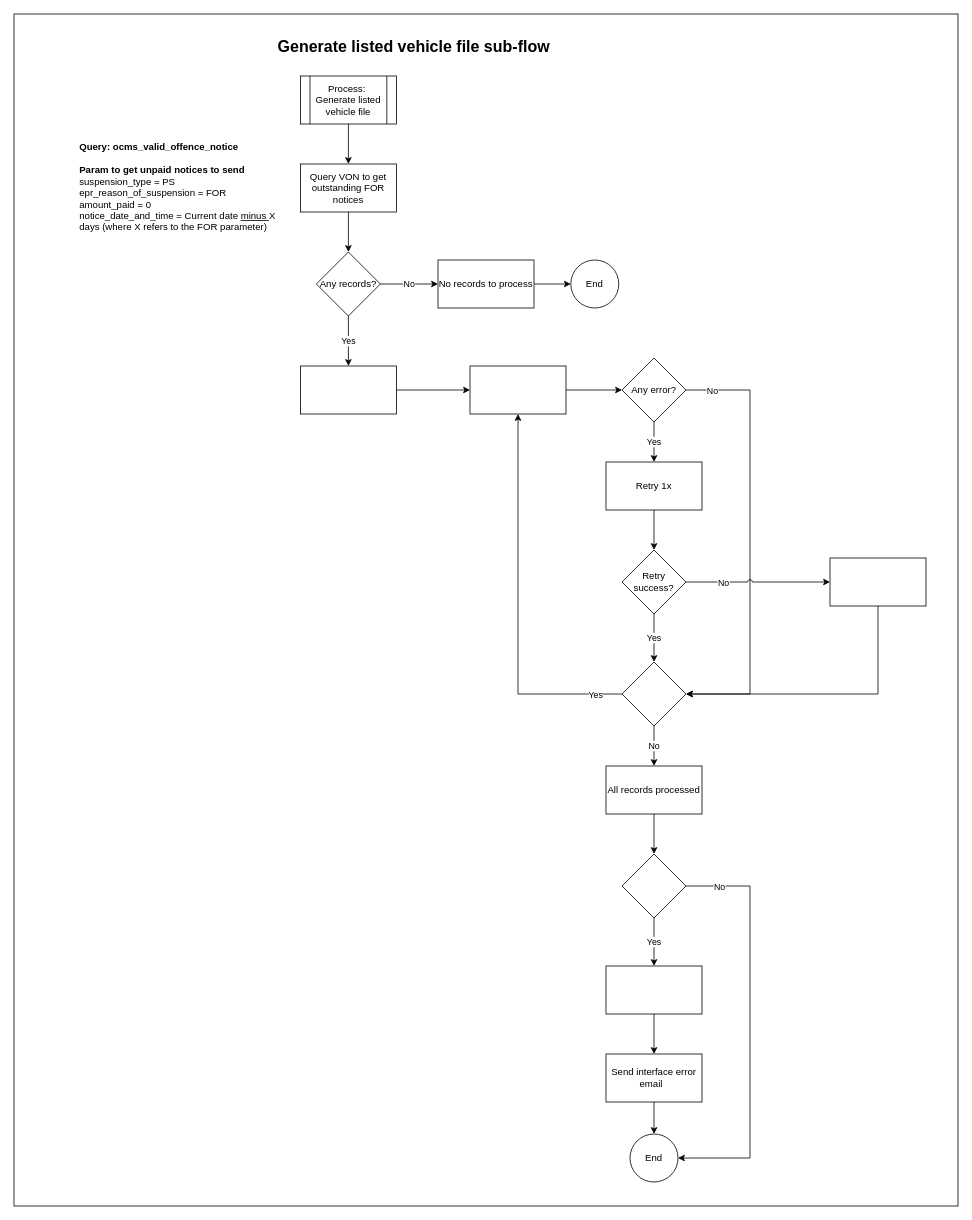
The diagram is 972 pixels wide and 1220 high, and some of its shapes have lost their labels. Each missing label, with the centre of its shape:
"Add to error log" goes at [877,581].
"Any errors logged?" goes at [653,885].
"Any more records left?" goes at [653,693].
"Consolidate errors" goes at [653,989].
"Select next 50 records - format data & append to file" goes at [517,389].
"Start file - generate header & trailer" goes at [348,389].
